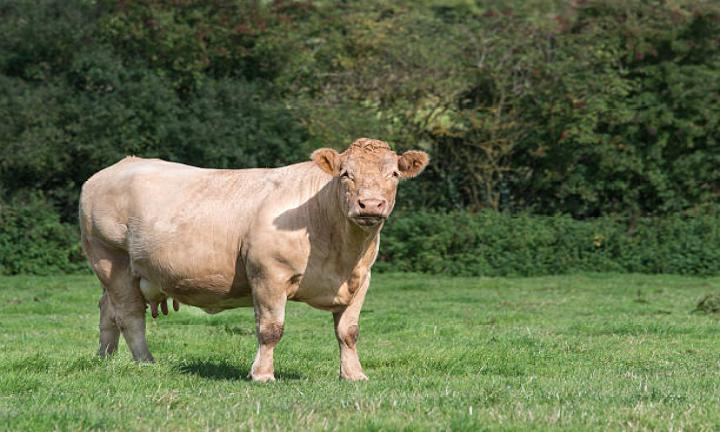Charolais: (80, 139, 427, 379)
